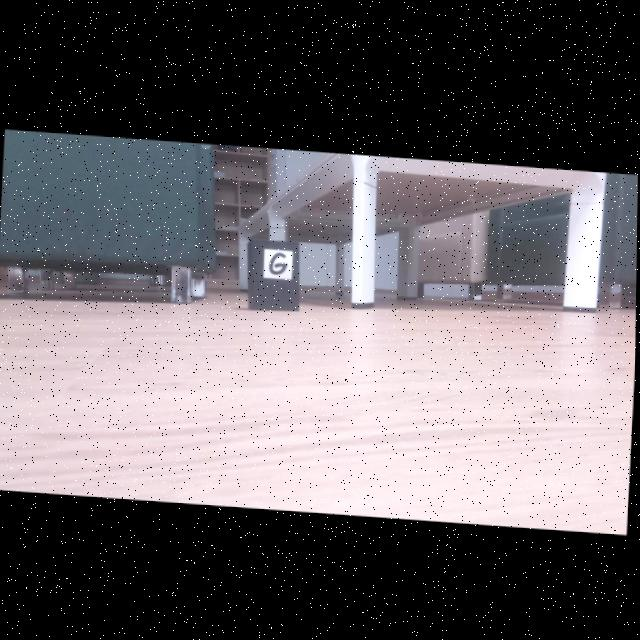G: (269, 250, 288, 272)
